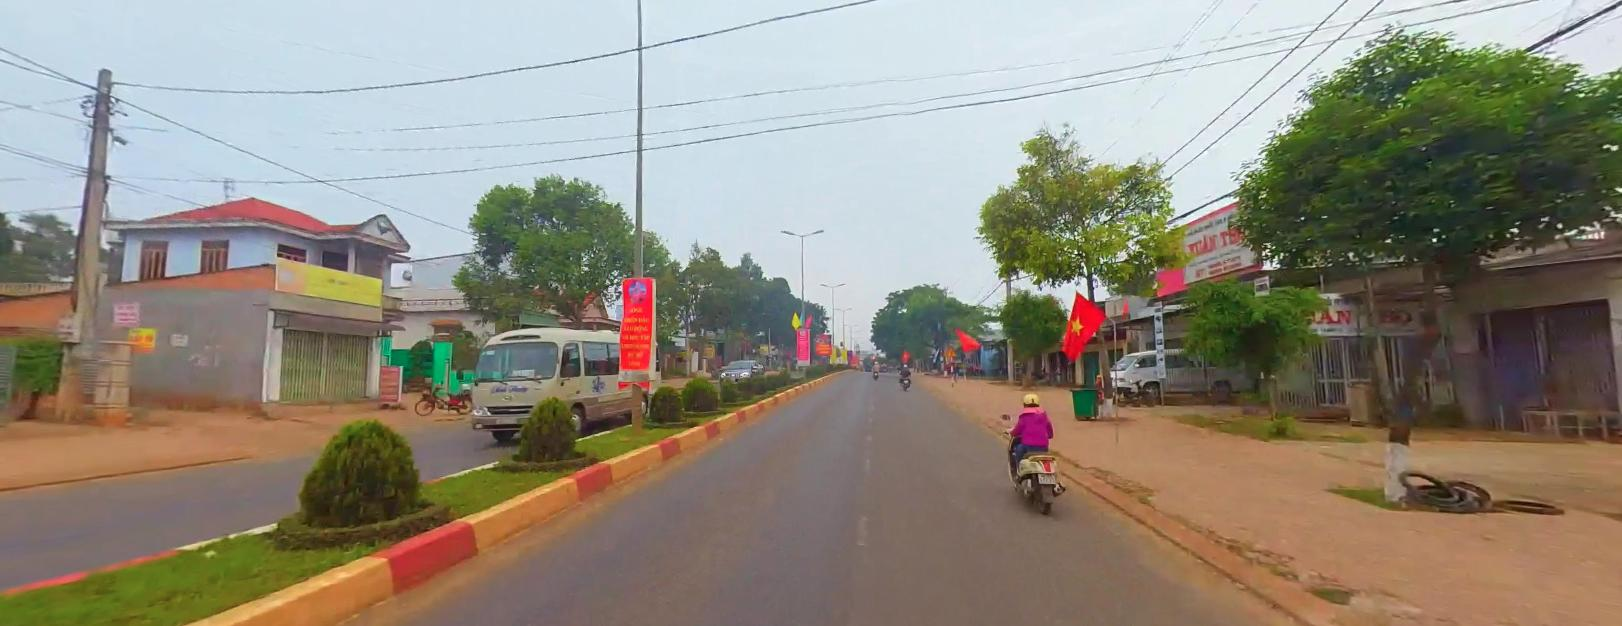Nguy hiem: (944, 345, 956, 354)
